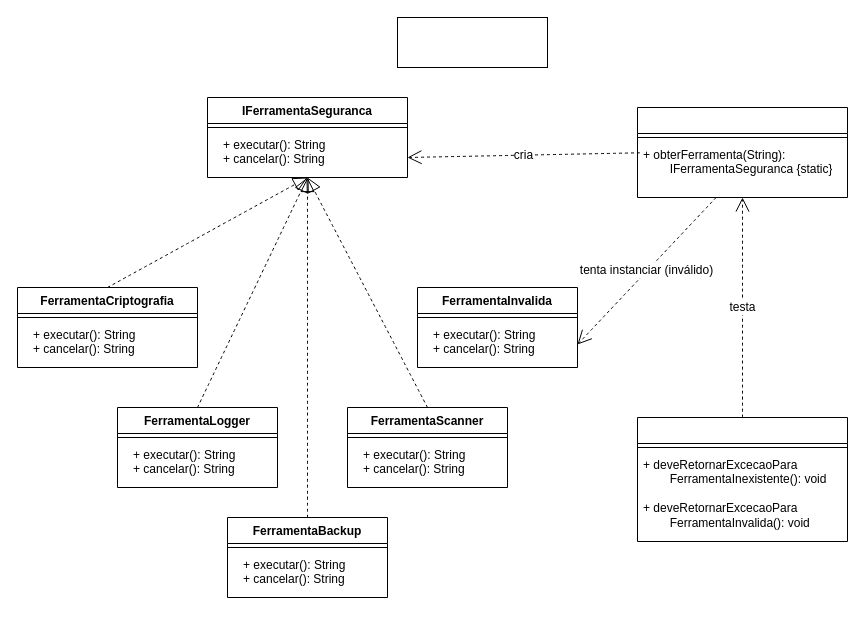
Image size: 865x618. Some labels were removed from this diagram. The shapes that lost their labels are listed below. From the top down, each one's box as (x1, y1, x2, y2) in pixels, then its label:
(396, 16, 548, 68): «interface» IFerramentaSeguranca
(636, 106, 848, 198): SegurancaFactory
(636, 416, 848, 542): SegurancaFactoryTest
